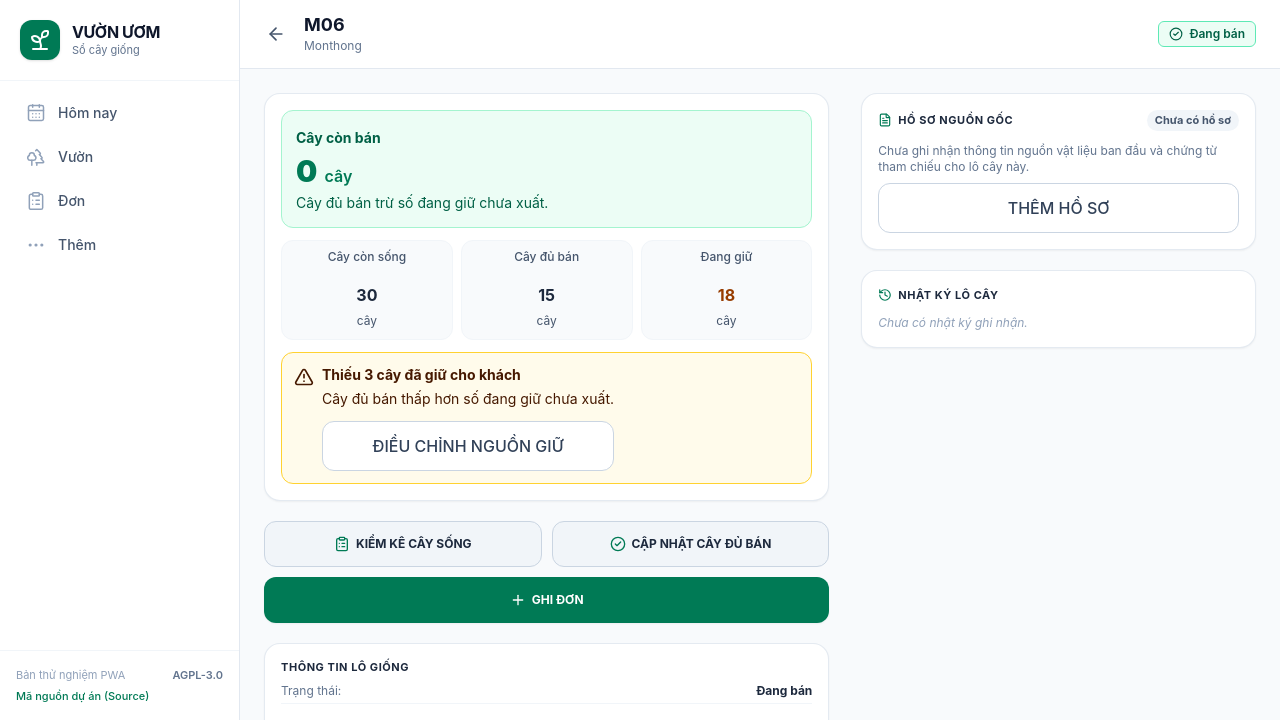
Test case: V2-A3 quick update composition (real Dexie) › legacy BatchDetail controls keep existing cancel/save/back behavior
Click the button "KIỂM KÊ CÂY SỐNG" at (403, 544), box [264,521,542,567]
(page scrolled)
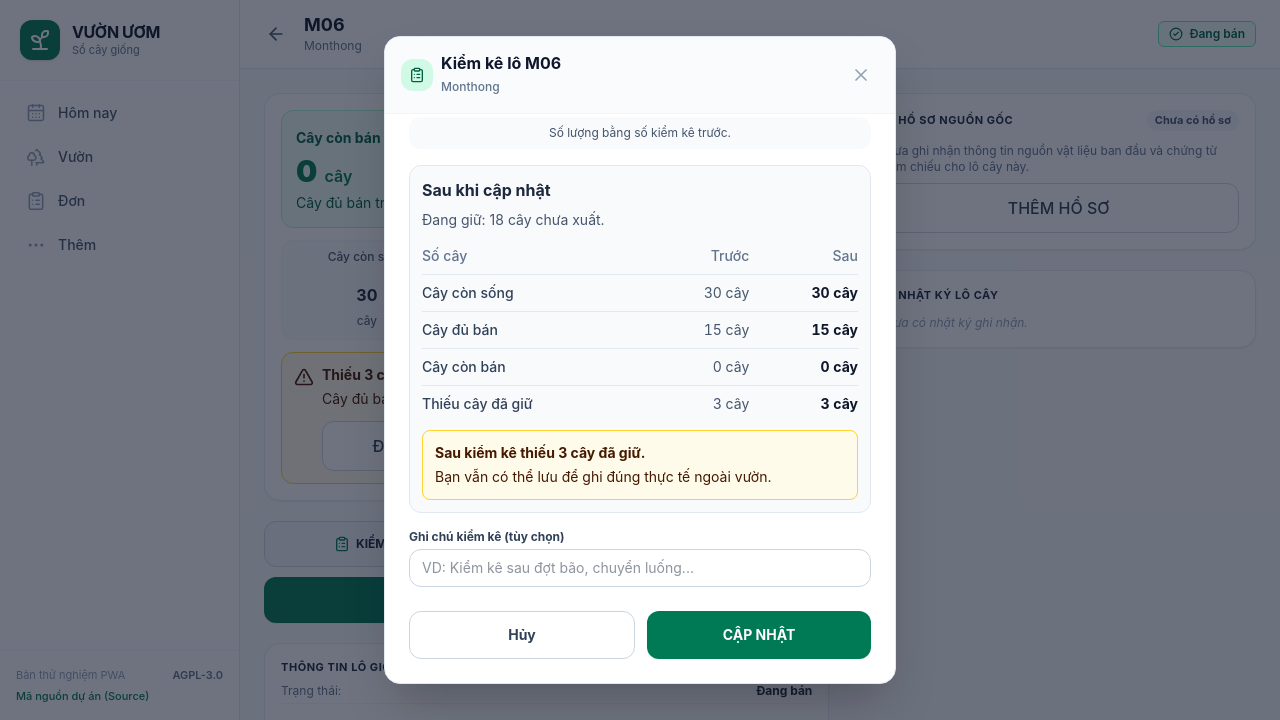
Click the button "Hủy" at (522, 635), box [409,611,635,659]
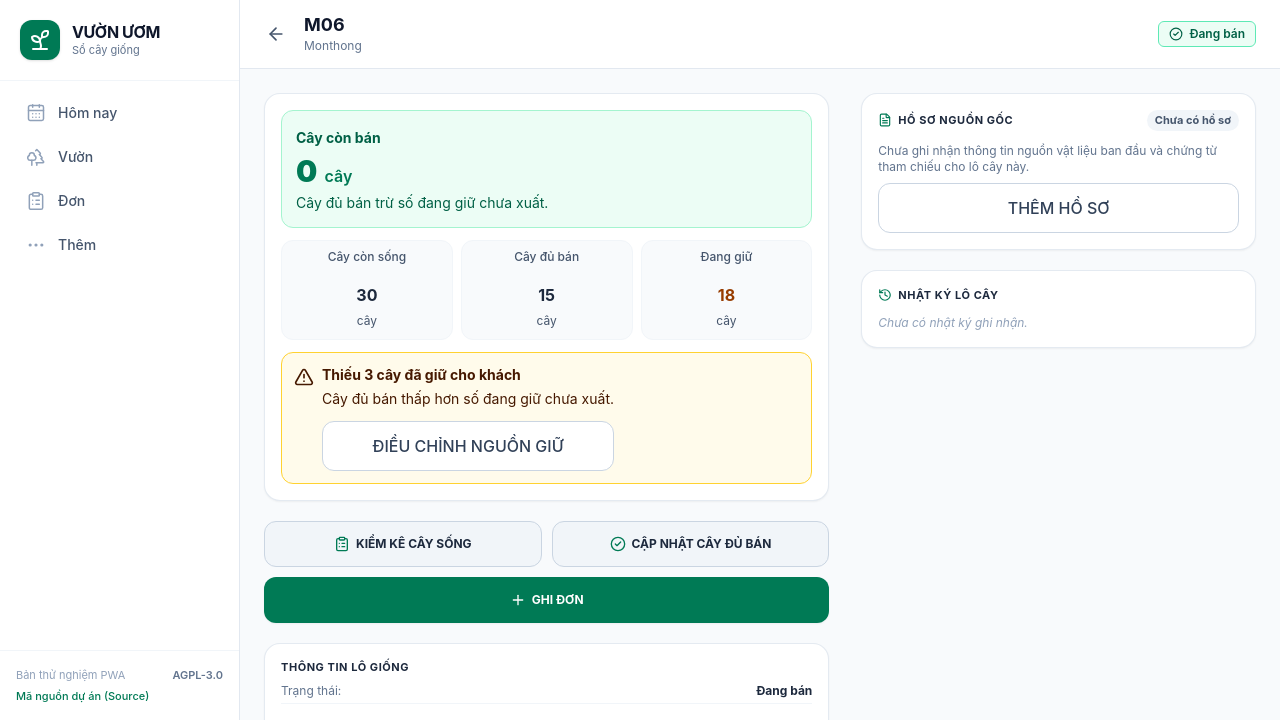
Click the button "CẬP NHẬT CÂY ĐỦ BÁN" at (691, 544), box [552,521,829,567]
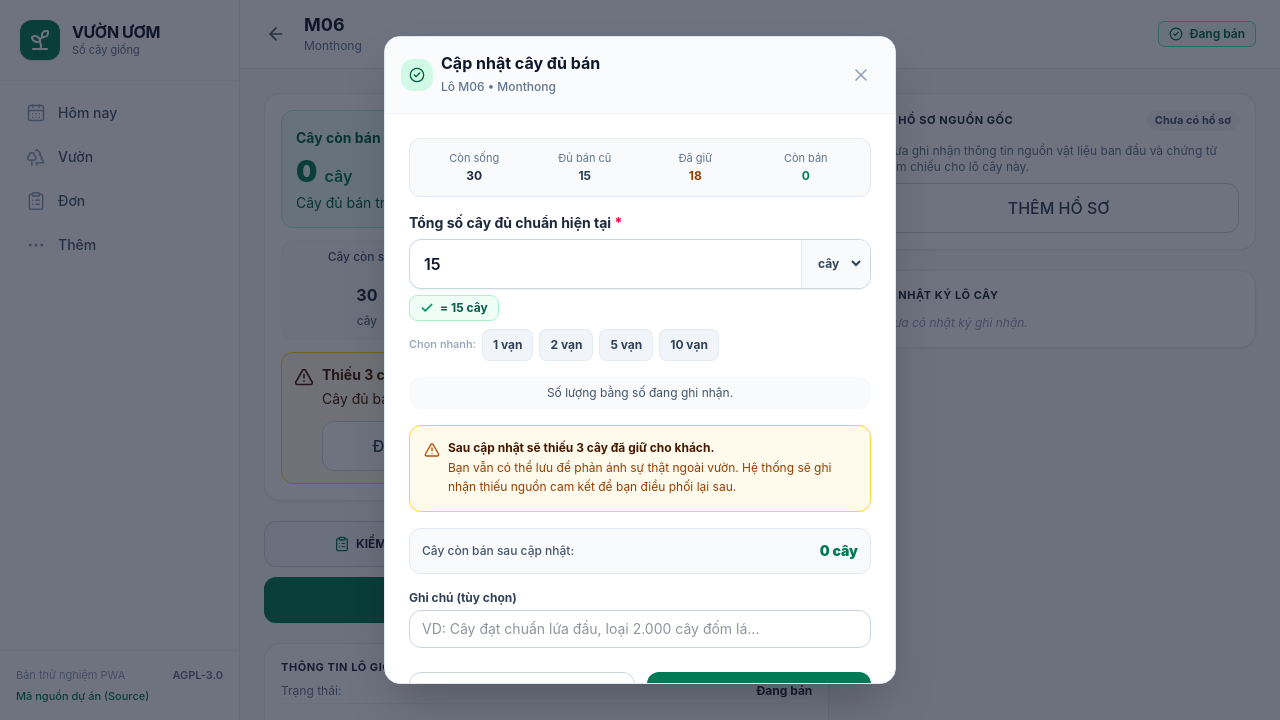
Replace the text in the field labelled "Tổng số cây đủ chuẩn hiện tại *" with "25" at (606, 264), box [410,240,801,288]
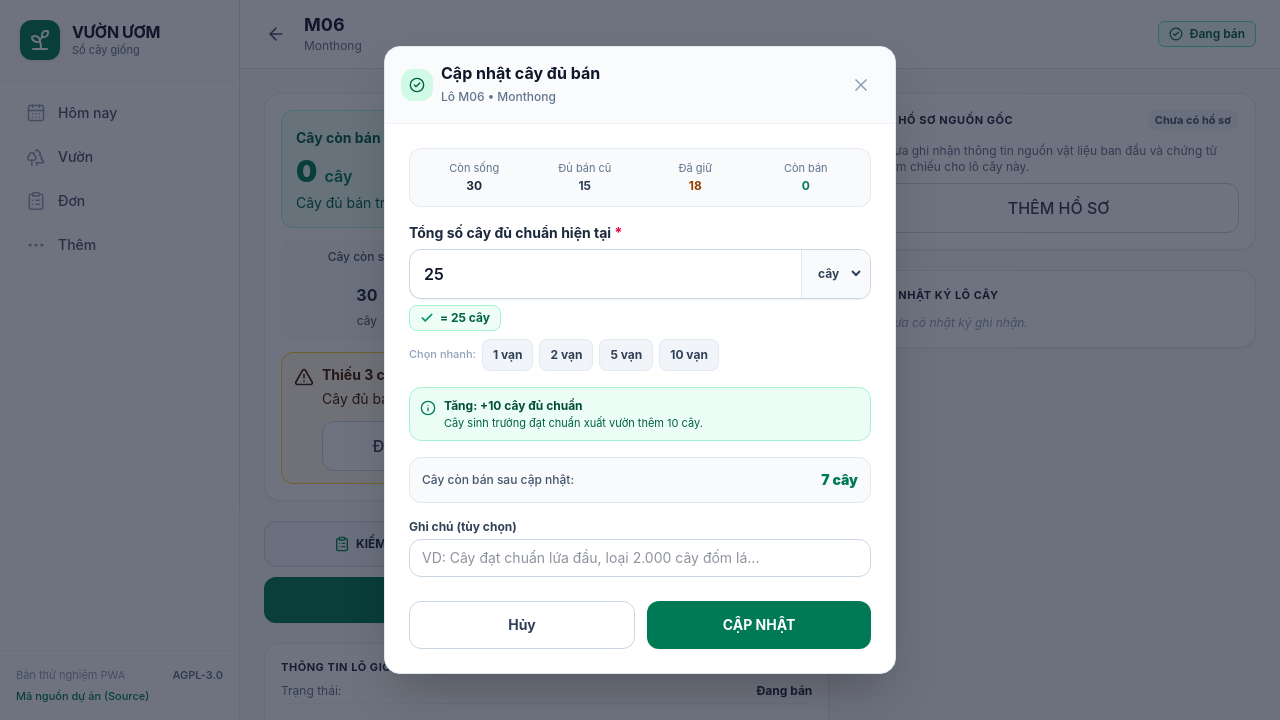
Click the button "CẬP NHẬT" at (759, 625), box [647,601,871,649]
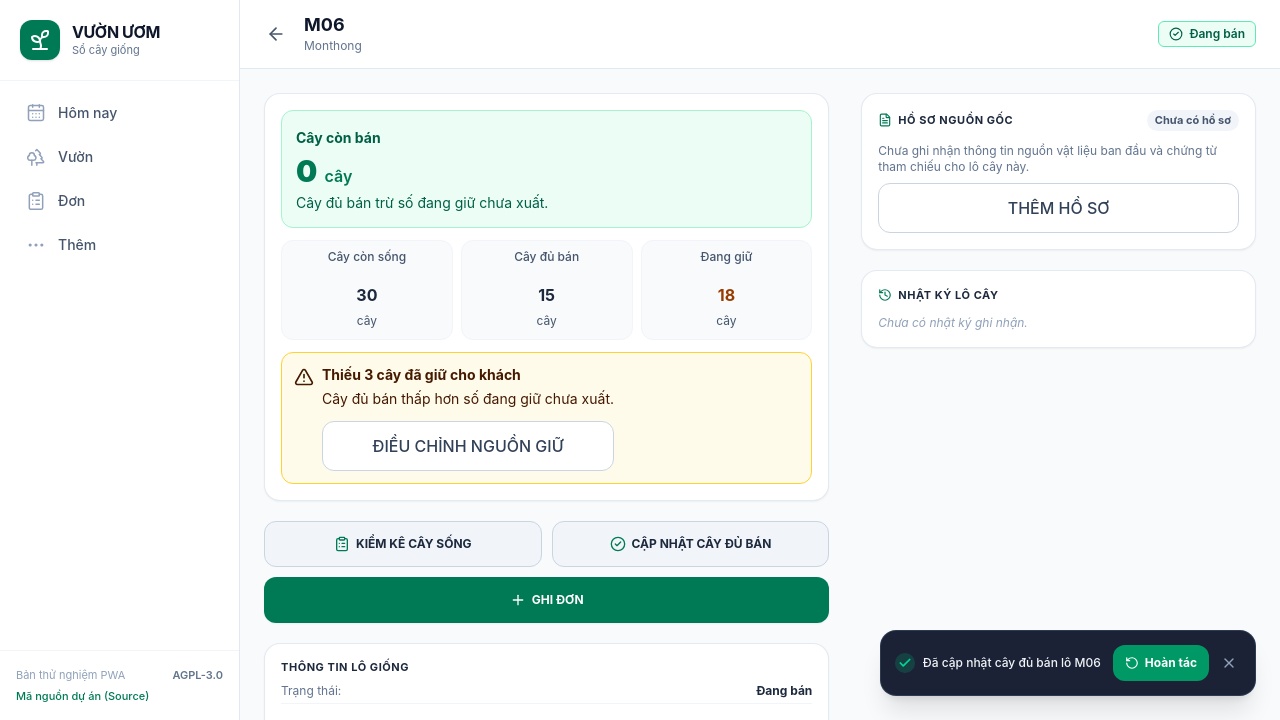
Expected: the dialog is gone
Click the button named "Quay lại" at (276, 34), box [256,14,296,54]
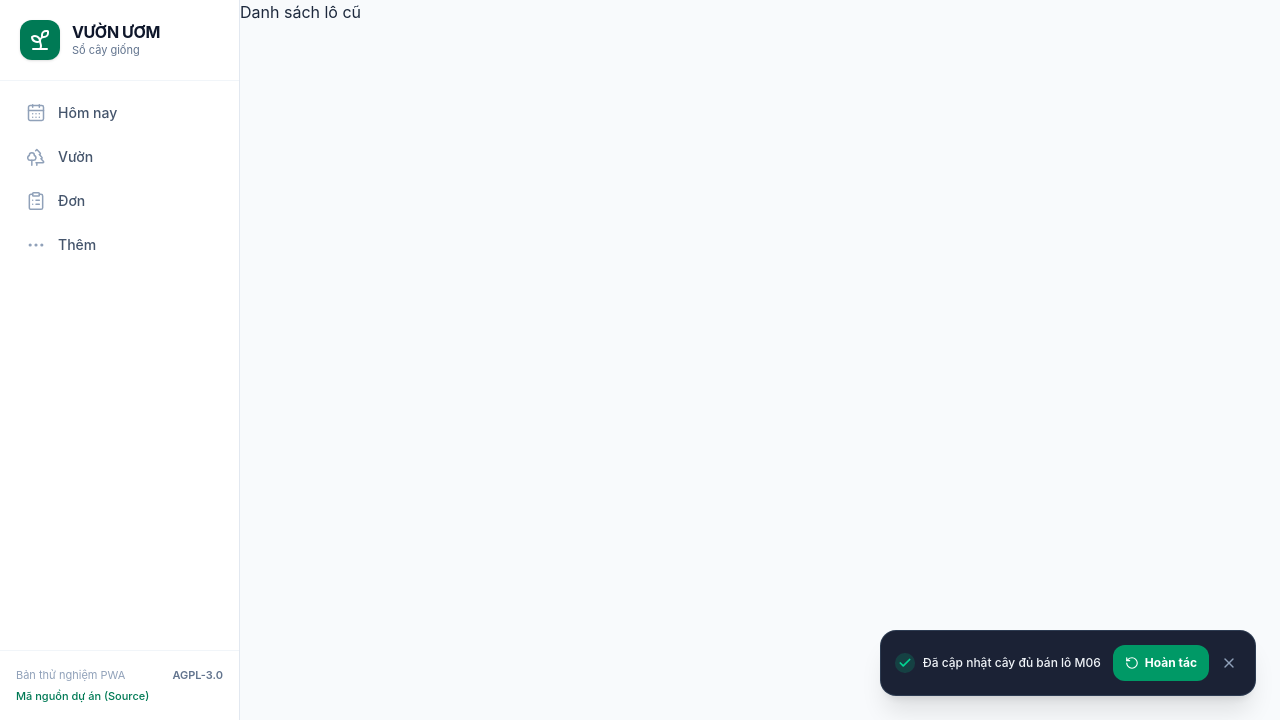
Expected: the heading "Danh sách lô cũ" is shown, [240,2,361,22]
